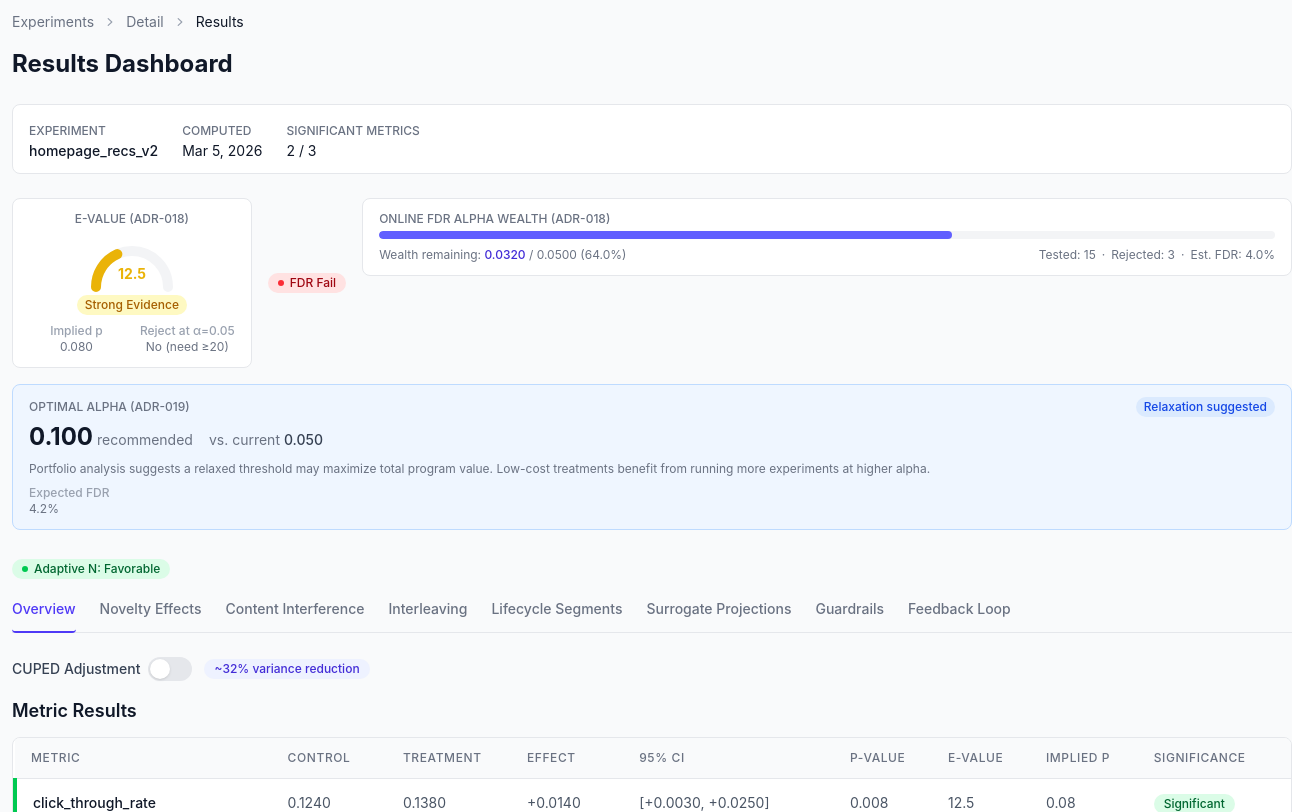
Test case: Chaos: 404 vs 500 on analysis tabs › shows red retryable error for 500 (service is down)
Click the tab "Novelty Effects". click: [150, 614]
box: left=100, top=595, right=202, bottom=633
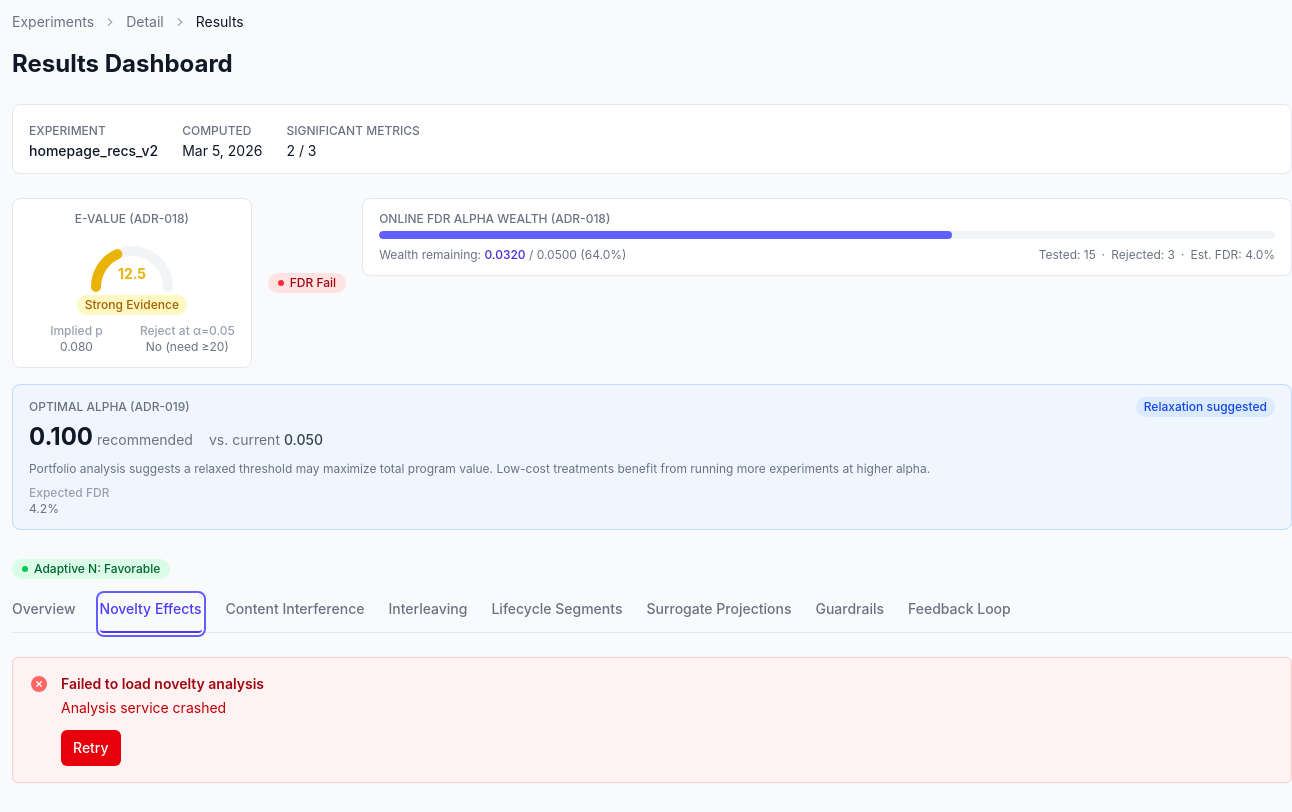
expect the message "Failed to load novelty analysis Analysis service crashed Retry" is shown: met, box left=12, top=657, right=1291, bottom=783
expect the text "Analysis service crashed" is shown: met, box left=61, top=699, right=226, bottom=716
expect the button with test id "retry-button" is shown: met, box left=61, top=730, right=121, bottom=766
